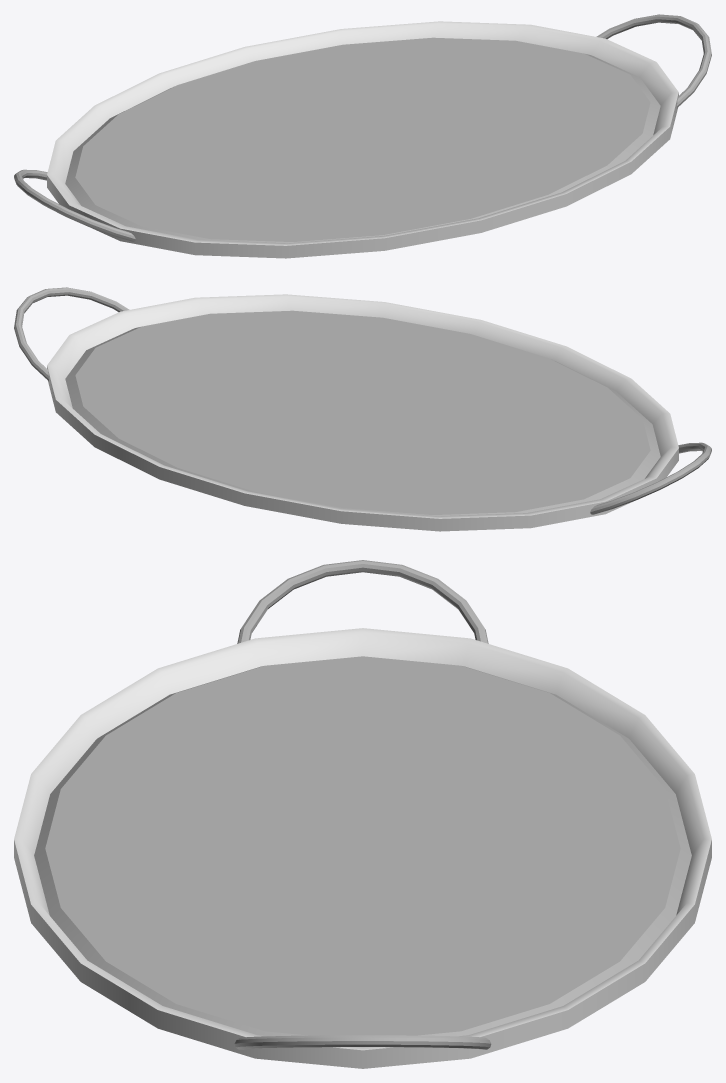
File: Platter.fbx
3 views of the same model, one above another, from view 1: azimuth 30°, elevation 25°; view 2: azimuth 150°, elevation 25°; view 3: azimuth 270°, elevation 25° (orthographic). The views are drawn at different scales.
Parts seen in each view (by area): view 1: polySurface7; view 2: polySurface7; view 3: polySurface7.
Boxes of the visible parts, <box> form: polySurface7: <box>14,14,711,258</box>; polySurface7: <box>14,287,711,531</box>; polySurface7: <box>14,560,711,1068</box>.
Bounding box in the file's own units: 410 × 24.29 × 250.
